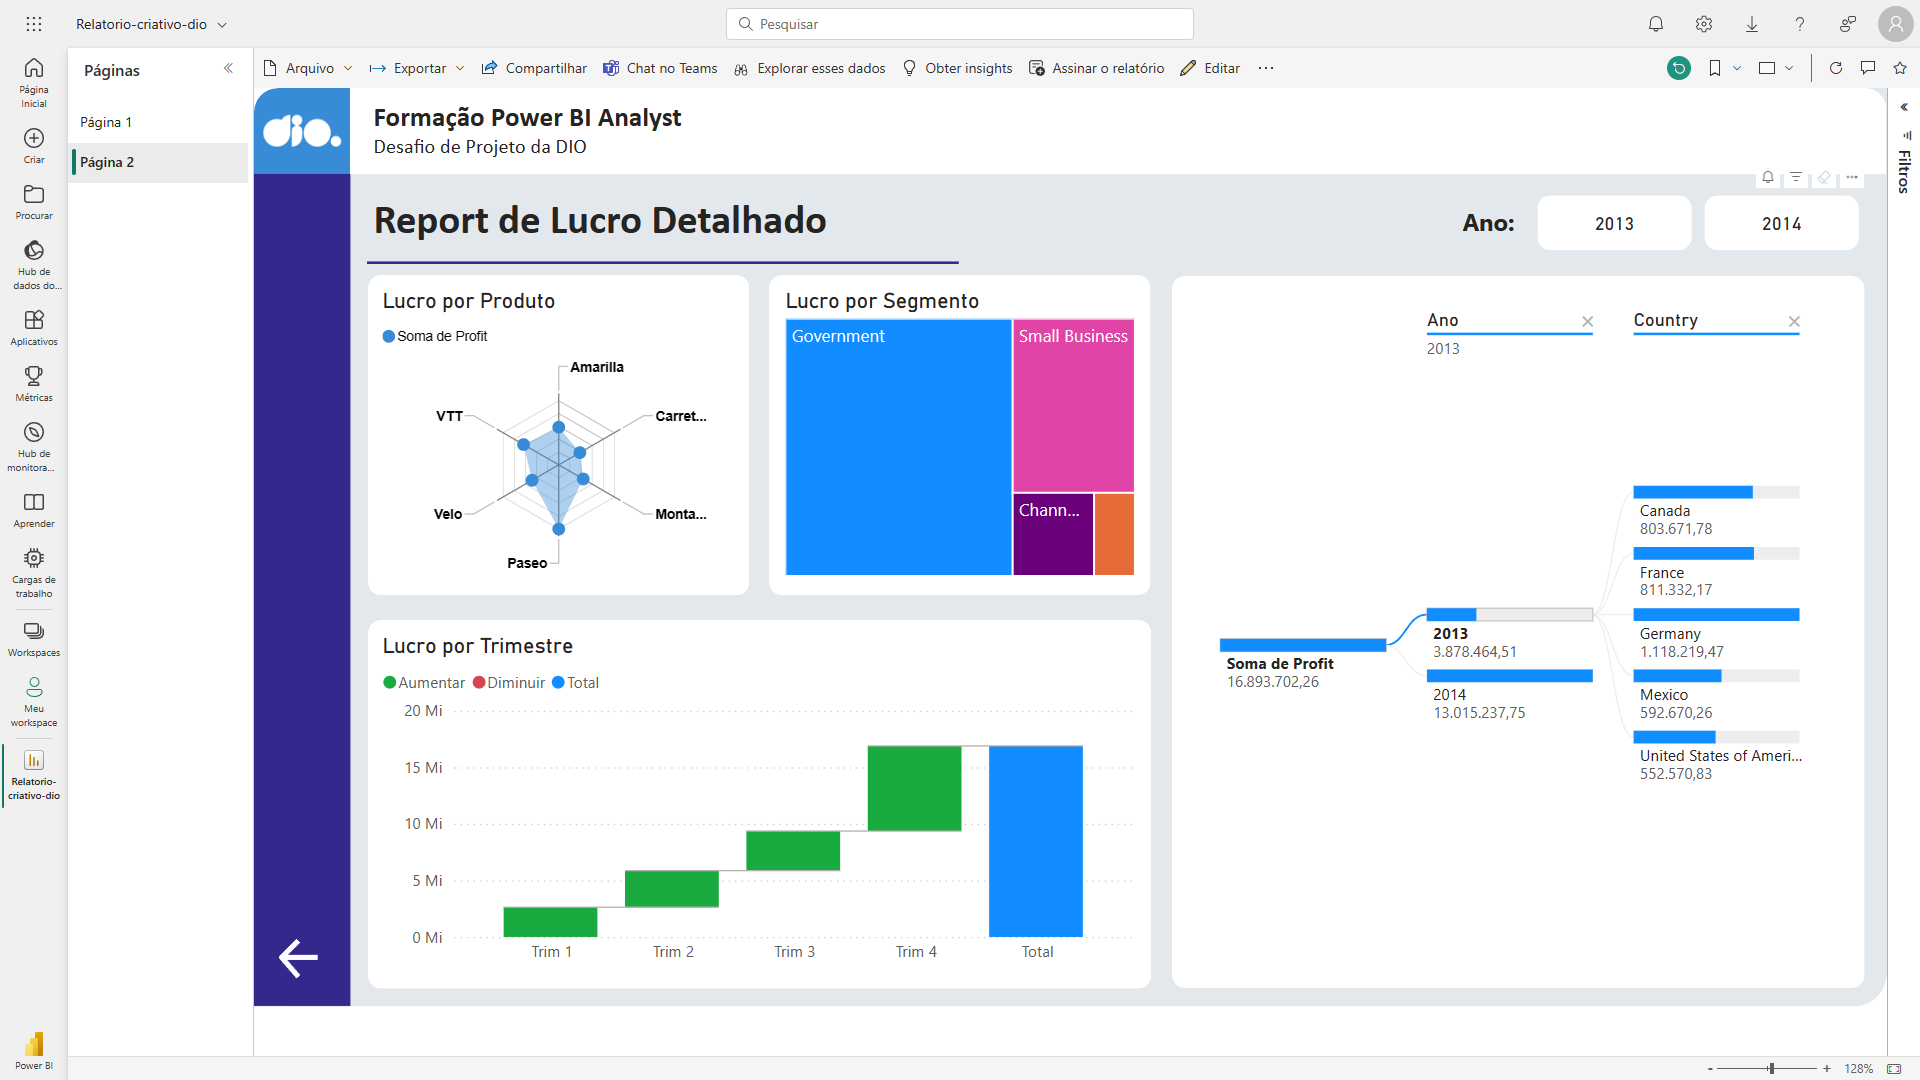

The dashboard page shown, as its layout file describes it:
{"tool":"powerbi","page":{"name":"Página 2","canvas":[1280,720],"ordinal":1},"visuals":[{"type":"group","id":"g1","title":"Base","box":[0,0,1280,720],"z":0},{"type":"shape","title":"background","box":[0,0,1280,720],"z":0,"group":"g1"},{"type":"shape","box":[89,131.3,463.8,12.1],"z":0,"group":"g2"},{"type":"shape","title":"Back-logo","box":[0,0,75.6,720],"z":1000,"group":"g1"},{"type":"group","id":"g2","title":"Title-area","box":[89,78.6,463.8,64.8],"z":1000},{"type":"textbox","title":"Title","box":[89,78.6,379.2,52.7],"z":1000,"group":"g2"},{"type":"image","title":"DIO-logo","box":[2.2,0,71.1,67.8],"z":2000,"group":"g1"},{"type":"actionButton","title":"Botão retornar","box":[15.7,662.1,42.2,40.3],"z":2000},{"type":"shape","title":"left-bar","box":[0,67.8,75.6,652.2],"z":3000,"group":"g1"},{"type":"advancedSlicerVisual","fields":{"Values":["financials.Date.Variation.Hierarquia de datas.Ano"]},"box":[1001,79,262,53],"z":3000},{"type":"textbox","title":"Ano-text","box":[942,87,59,37],"z":3500},{"type":"shape","title":"top-bar","box":[75.6,0,1204.4,67.8],"z":4000,"group":"g1"},{"type":"shape","box":[719.5,147.5,543,558],"z":4000},{"type":"textbox","title":"intro","box":[88.9,4.4,300,57.8],"z":5000,"group":"g1"},{"type":"decompositionTreeVisual","fields":{"Analyze":["Sum(financials.Profit)"],"ExplainBy":["financials.Date.Variation.Hierarquia de datas.Ano","financials.Country"]},"box":[727.5,156.5,526,538],"z":5000},{"type":"shape","box":[89.1,416.8,614,289],"z":6000},{"type":"waterfallChart","title":"Lucro por Trimestre","fields":{"Y":["Sum(financials.Profit)"],"Category":["financials.Date.Variation.Hierarquia de datas.Trimestre"]},"box":[95.5,427.1,599.8,268.3],"z":6500},{"type":"shape","box":[89.1,146.6,299,251],"z":7000},{"type":"RadarChart1446119667547","title":"Lucro por Produto","fields":{"Y":["Sum(financials.Profit)"],"Category":["financials.Product"]},"box":[95.5,156.7,286.5,230.9],"z":7500},{"type":"shape","box":[403.3,146.6,299,251],"z":8000},{"type":"treemap","title":"Lucro por Segmento","fields":{"Values":["Sum(financials.Profit)"],"Group":["financials.Segment"]},"box":[411.1,156.8,283.9,230.7],"z":8500}]}

Visuals, with their boxes on the page's 1280x720 design canvas (x1, y1, x2, y2). These are canvas units, not pixel positions in the 1920x1080 screenshot, which may show the page scaled, cropped or inside an application window:
"Base" group: [0, 0, 1280, 720]
"background" shape: [0, 0, 1280, 720]
shape: [89, 131, 553, 143]
"Back-logo" shape: [0, 0, 76, 720]
"Title-area" group: [89, 79, 553, 143]
"Title" textbox: [89, 79, 468, 131]
"DIO-logo" image: [2, 0, 73, 68]
"Botão retornar" actionButton: [16, 662, 58, 702]
"left-bar" shape: [0, 68, 76, 720]
advancedSlicerVisual - financials.Date.Variation.Hierarquia de datas.Ano: [1001, 79, 1263, 132]
"Ano-text" textbox: [942, 87, 1001, 124]
"top-bar" shape: [76, 0, 1280, 68]
shape: [720, 148, 1262, 706]
"intro" textbox: [89, 4, 389, 62]
decompositionTreeVisual - Sum(financials.Profit) x financials.Date.Variation.Hierarquia de datas.Ano: [728, 156, 1254, 694]
shape: [89, 417, 703, 706]
"Lucro por Trimestre" waterfallChart: [96, 427, 695, 695]
shape: [89, 147, 388, 398]
"Lucro por Produto" RadarChart1446119667547: [96, 157, 382, 388]
shape: [403, 147, 702, 398]
"Lucro por Segmento" treemap: [411, 157, 695, 388]
